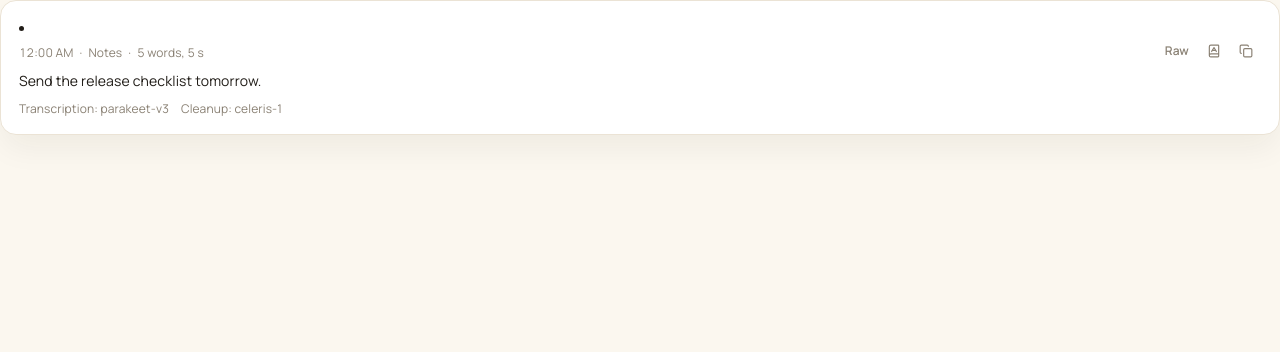
Test: add to dictionary › shows the raw text, which is what the dictionary is matched against, and fills Sounds like from it
This screenshot has width=1280, height=352.
Click the button named "Add to dictionary": (1214, 50) [1199, 40, 1229, 62]
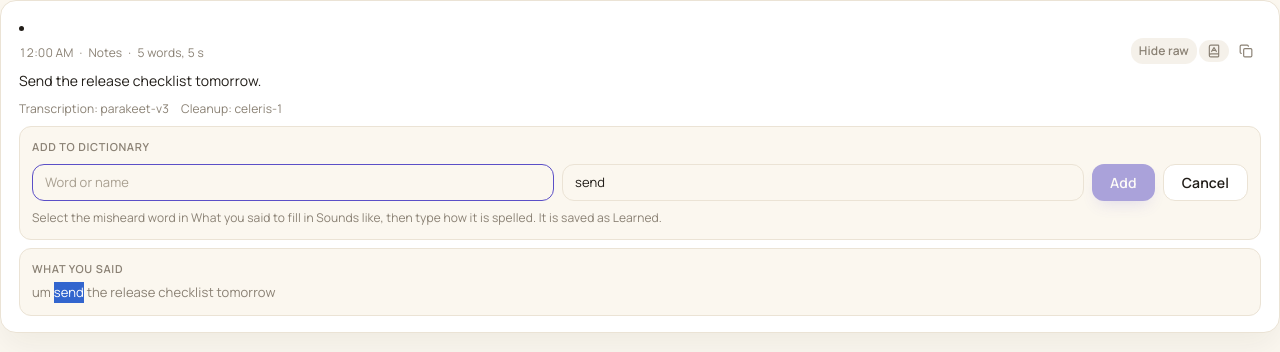
Expected: the text "What you said" is shown, [32, 261, 123, 276]
Expected: the text "Select the misheard word in What you said" is shown, [32, 209, 662, 226]
Expected: the field named "Sounds like" holds "send", [562, 164, 1084, 201]
